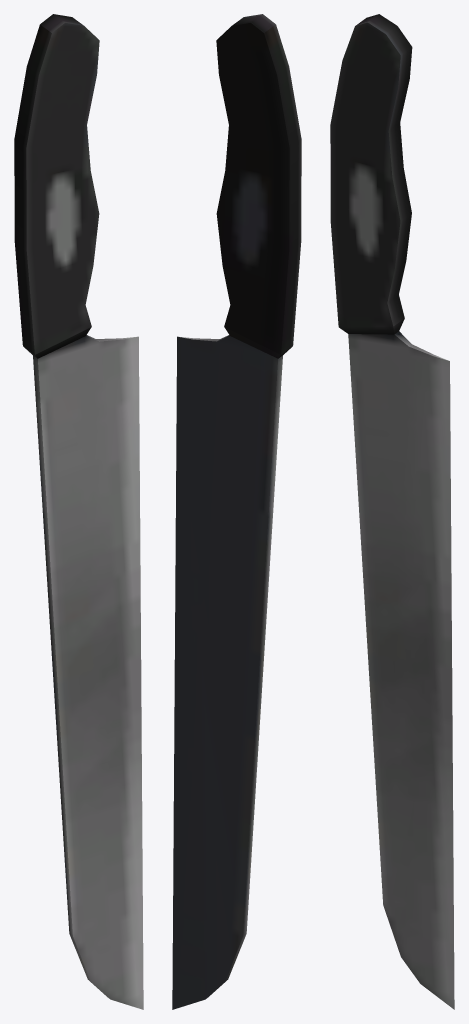
Rendered from cuchillo2.fbx.
The picture shows the model from 3 angles, left to right: view 1: azimuth 30°, elevation 25°; view 2: azimuth 150°, elevation 25°; view 3: azimuth 330°, elevation 25°; orthographic projection. The views are drawn at different scales.
Parts seen in each view (by area): view 1: s4studio_mesh_1; view 2: s4studio_mesh_1; view 3: s4studio_mesh_1.
Part boxes in pixels (left/top/right/bottom): s4studio_mesh_1: left=14, top=14, right=143, bottom=1009; s4studio_mesh_1: left=172, top=14, right=301, bottom=1009; s4studio_mesh_1: left=330, top=14, right=454, bottom=1009.
Size of the model in its own units: 6.72 by 52.75 by 1.14.
1 material, 1 textured.
